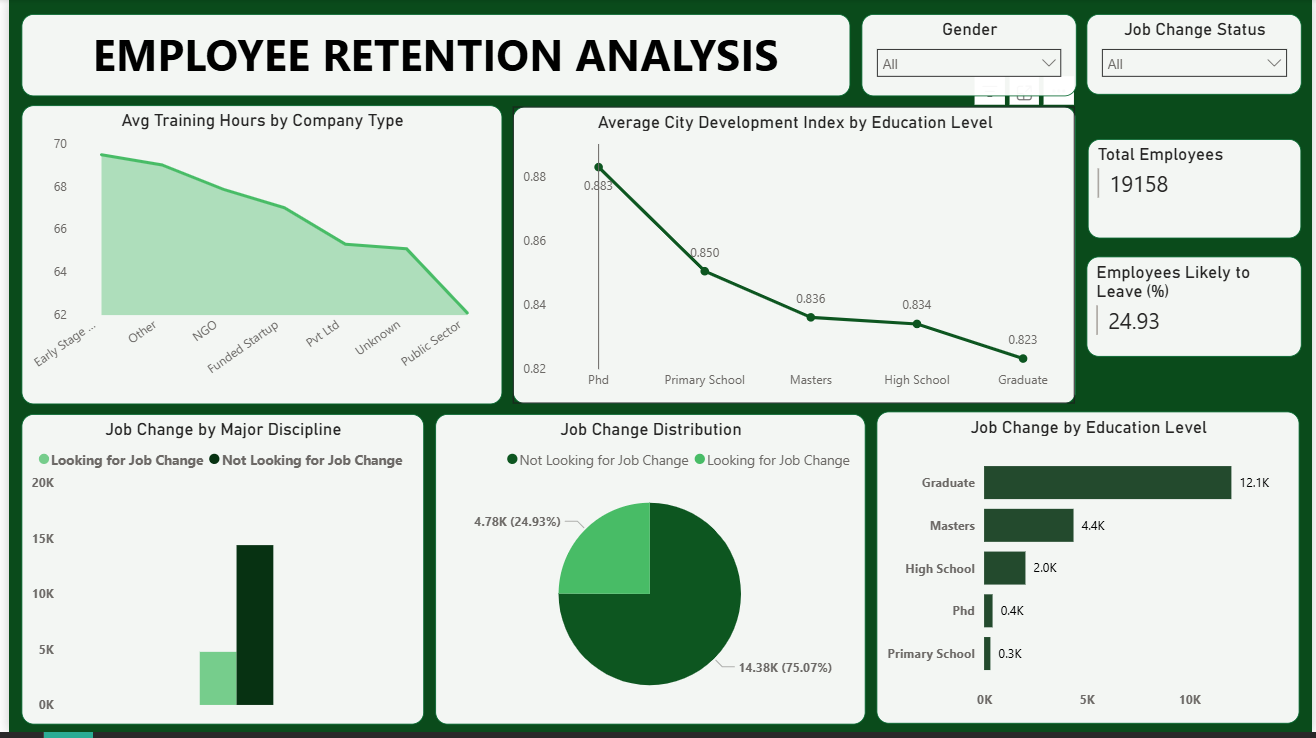

Layout of this report page (visuals, bound fields, positions):
{"tool":"powerbi","page":{"name":"Page 1","canvas":[1280,720],"ordinal":0},"visuals":[{"type":"barChart","title":"Job Change by Education Level","fields":{"Category":["employee_retention_decoded.education_level"],"Y":["CountNonNull(employee_retention_decoded.target)"]},"box":[851.8,405.4,415.3,306.1],"z":0},{"type":"areaChart","title":"Avg Training Hours by Company Type","fields":{"Category":["employee_retention_decoded.company_type"],"Y":["Avg(employee_retention_decoded.training_hours)"]},"box":[12.8,104.9,472,293.4],"z":1000},{"type":"clusteredColumnChart","title":"Job Change by Major Discipline ","fields":{"Y":["CountNonNull(employee_retention_decoded.major_discipline)"],"Series":["employee_retention_decoded.Job_Change_Label"]},"box":[12.8,406.8,395,304.7],"z":2000},{"type":"lineChart","title":"Average City Development Index by Education Level","fields":{"Category":["employee_retention_decoded.education_level"],"Y":["Avg(employee_retention_decoded.city_development_index)"]},"box":[494,105.7,553,292.3],"z":3000},{"type":"pieChart","title":"Job Change Distribution","fields":{"Y":["CountNonNull(employee_retention_decoded.target)"],"Category":["employee_retention_decoded.Job_Change_Label"]},"box":[418.1,406.8,422,305],"z":4000},{"type":"textbox","box":[12.8,14.2,813.5,80.8],"z":5000},{"type":"multiRowCard","title":"Total Employees","fields":{"Values":["CountNonNull(employee_retention_decoded.target)"]},"box":[1059.4,137.2,209.9,97.4],"z":6000},{"type":"slicer","title":"Gender","fields":{"Values":["employee_retention_decoded.gender"]},"box":[836.2,14.2,211.2,80.8],"z":7000},{"type":"multiRowCard","title":"Employees Likely to Leave (%)","fields":{"Values":["employee_retention_decoded.% Likely to Leave"]},"box":[1058,252.5,211.3,98.8],"z":8000},{"type":"slicer","title":"Job Change Status","fields":{"Values":["employee_retention_decoded.Job_Change_Label"]},"box":[1058,15.1,211.3,79.6],"z":9000}]}

Visuals, with their boxes in screenshot pixels (x1, y1, x2, y2), scaled from the page's 1280x720 canvas onto the 1316x738 screenshot:
"Job Change by Education Level" barChart: 876,416,1303,729
"Avg Training Hours by Company Type" areaChart: 13,108,498,408
"Job Change by Major Discipline " clusteredColumnChart: 13,417,419,729
"Average City Development Index by Education Level" lineChart: 508,108,1076,408
"Job Change Distribution" pieChart: 430,417,864,730
textbox: 13,15,850,97
"Total Employees" multiRowCard: 1089,141,1305,240
"Gender" slicer: 860,15,1077,97
"Employees Likely to Leave (%)" multiRowCard: 1088,259,1305,360
"Job Change Status" slicer: 1088,15,1305,97
